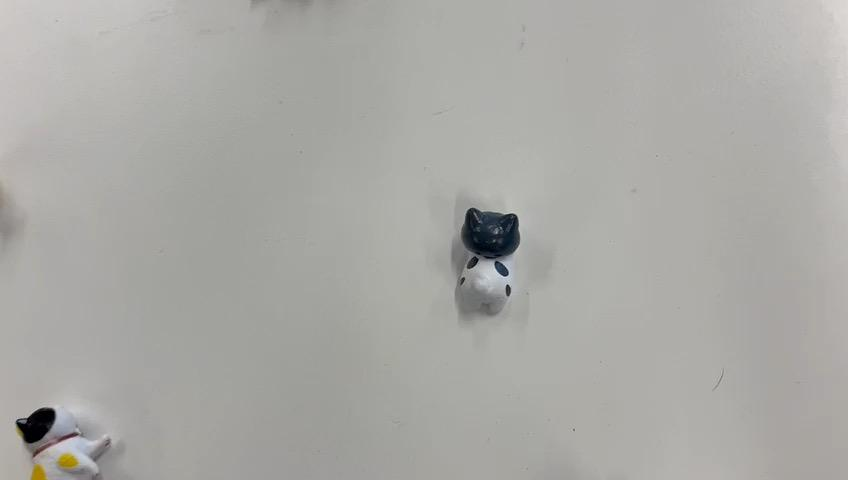pet: (8, 374, 155, 480), (448, 186, 533, 329)
